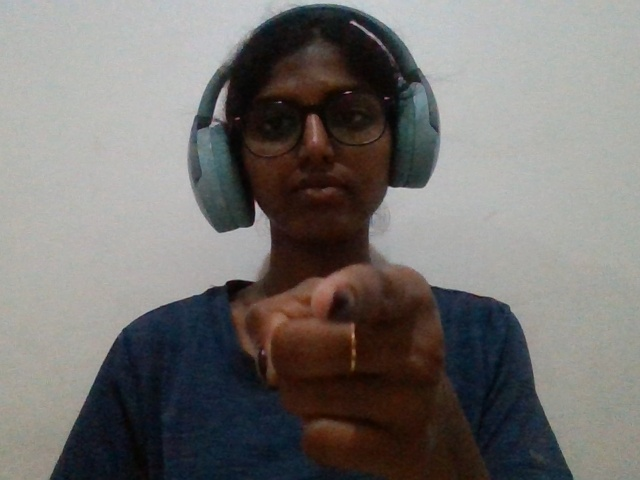You: (206, 232, 484, 480)
